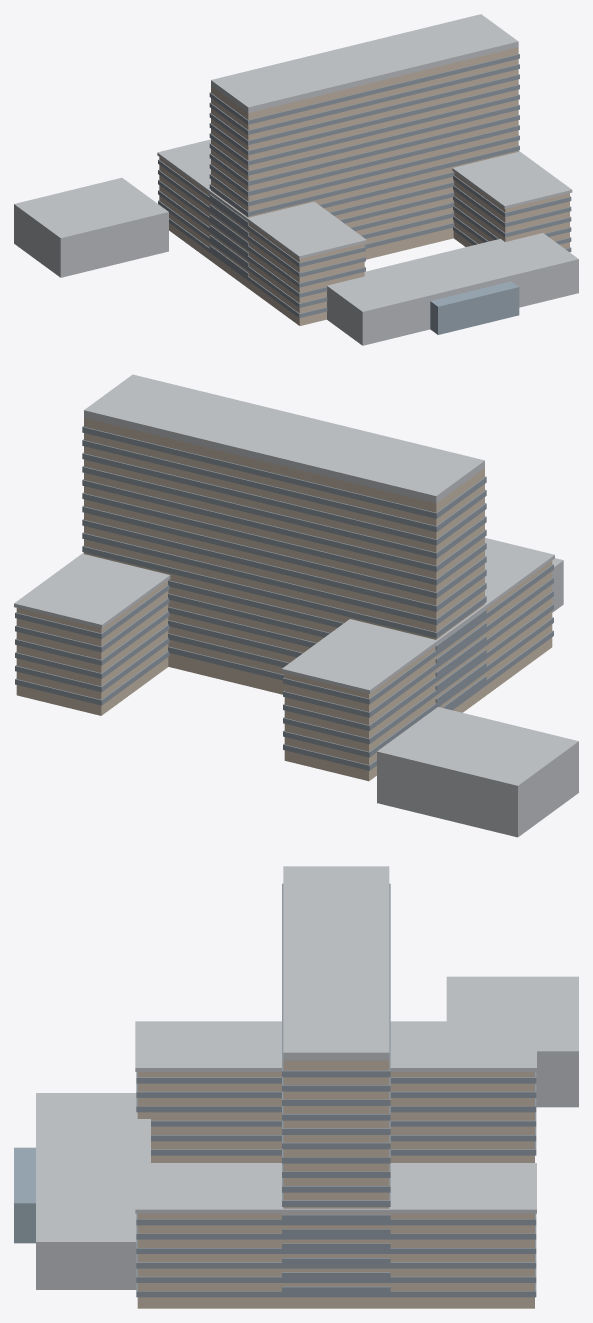
The model's file is cruces.glb.
3 views of the same model, one above another, from view 1: azimuth 30°, elevation 25°; view 2: azimuth 150°, elevation 25°; view 3: azimuth 270°, elevation 25° (orthographic). The views are drawn at different scales.
Size of the model in its own units: 148 by 64 by 128.
